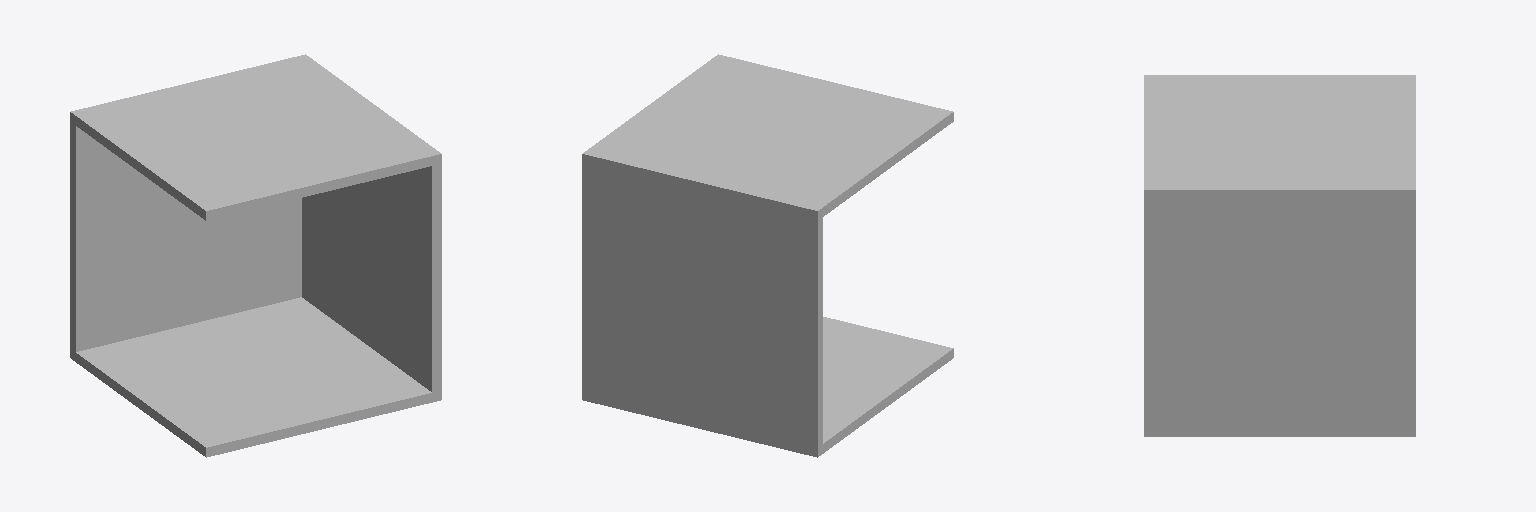
The model's file is coridor_corner.obj.
3 renders of one model, left to right at view 1: azimuth 30°, elevation 25°; view 2: azimuth 150°, elevation 25°; view 3: azimuth 270°, elevation 25°, orthographic.
Parts seen in each view (by area): view 1: ceiling, wall, floor, Wall; view 2: wall, ceiling, floor, Wall; view 3: Wall, ceiling, wall.
Boxes of the visible parts, <box> form: ceiling: <box>71,55,441,220</box>; wall: <box>70,56,304,361</box>; floor: <box>70,297,441,457</box>; Wall: <box>297,54,441,400</box>; wall: <box>582,152,822,456</box>; ceiling: <box>583,55,953,218</box>; floor: <box>584,317,953,457</box>; Wall: <box>582,54,726,400</box>; Wall: <box>1144,186,1415,436</box>; ceiling: <box>1144,75,1415,199</box>; wall: <box>1405,75,1415,436</box>.
Size of the model in its own units: 5 by 5 by 5.